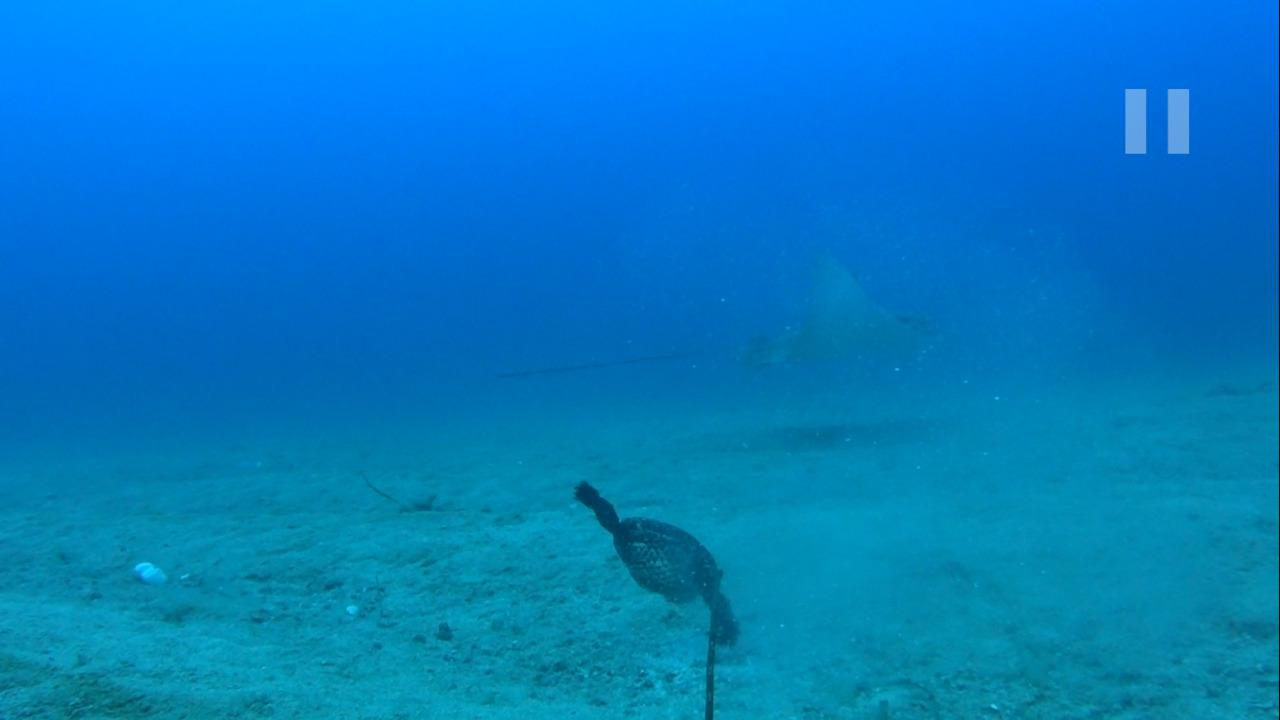myliobatis: (481, 246, 936, 412)
